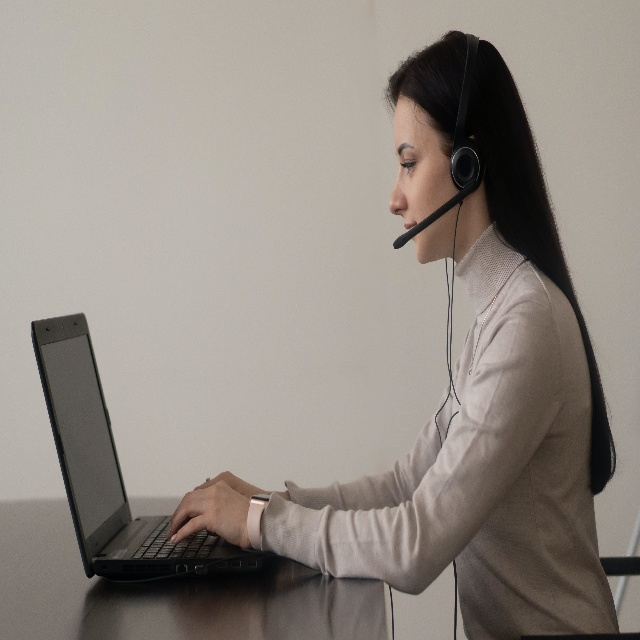Sin_guantes: (165, 480, 255, 549), (191, 470, 266, 503)
